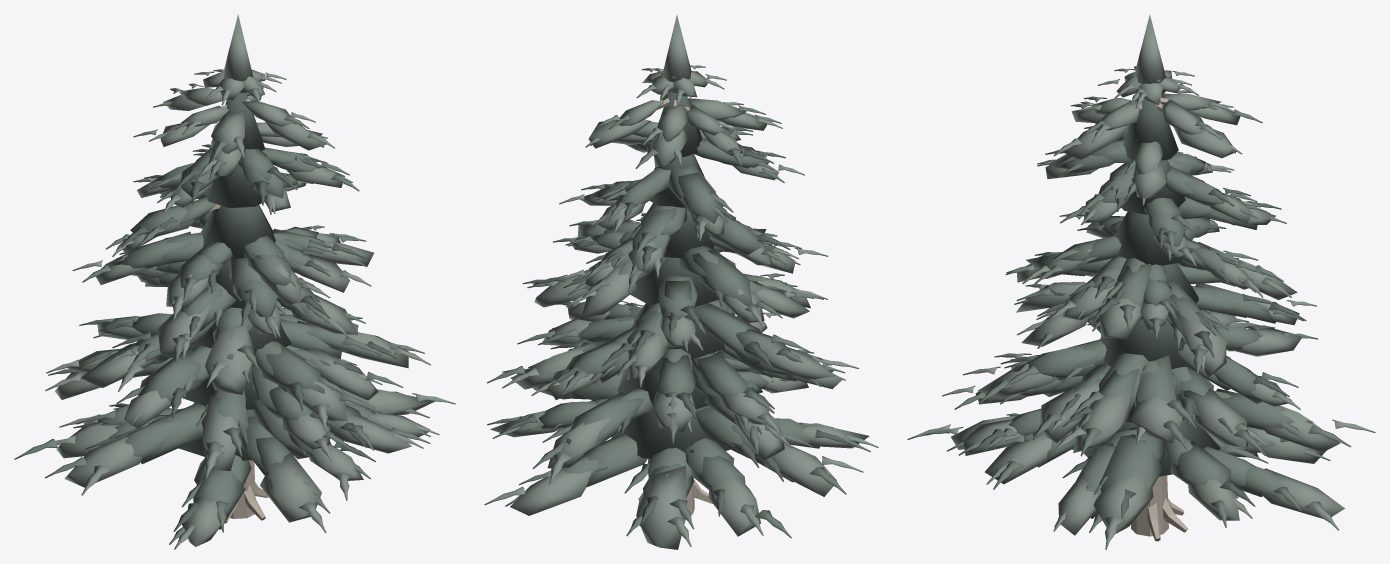
Rendered from Dark_Pine_1.gltf.
The picture shows the model from 3 angles, left to right: view 1: azimuth 30°, elevation 25°; view 2: azimuth 150°, elevation 25°; view 3: azimuth 270°, elevation 25°; orthographic projection. The views are drawn at different scales.
Parts seen in each view (by area): view 1: Dark_Pine_1; view 2: Dark_Pine_1; view 3: Dark_Pine_1.
Part boxes in pixels (box(x1,y1,x2,y2)): Dark_Pine_1: box(14, 14, 455, 549); Dark_Pine_1: box(484, 15, 878, 549); Dark_Pine_1: box(907, 14, 1375, 549).
Bounding box in the file's own units: 3.79 × 4.77 × 3.93.
